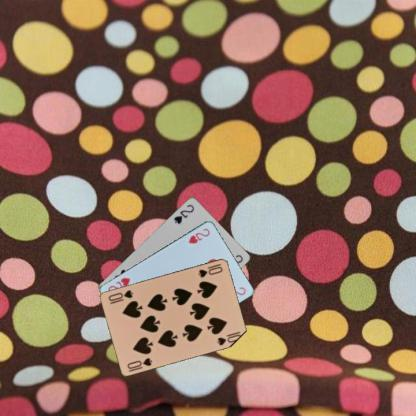10s: (195, 260, 224, 278), (124, 355, 154, 370)
2h: (186, 225, 211, 245)
2s: (171, 201, 195, 224)
